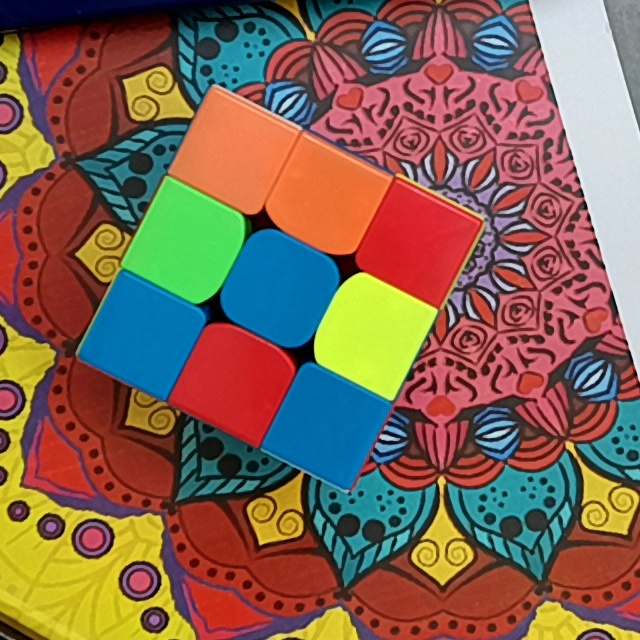tile: (244, 252, 317, 324), (294, 389, 365, 459), (155, 205, 223, 277), (291, 165, 361, 234), (107, 300, 175, 371), (338, 298, 408, 366), (199, 347, 271, 412), (384, 208, 451, 276), (199, 119, 268, 184)
